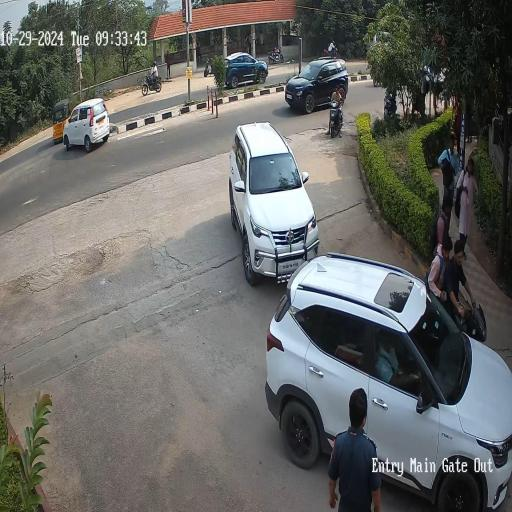no helmet: (330, 82, 344, 136)
